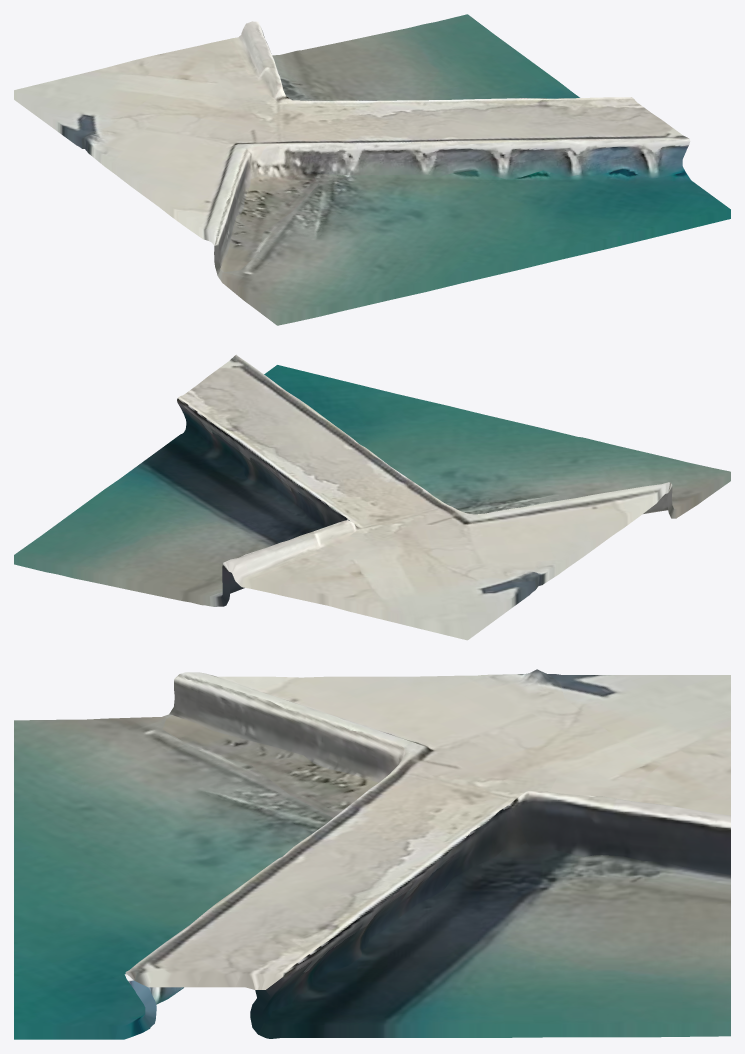
The model's file is z20-167566-405172-h0-yup-uvflip-v3-world.glb.
The picture shows the model from 3 angles, top to bottom: view 1: azimuth 30°, elevation 25°; view 2: azimuth 150°, elevation 25°; view 3: azimuth 270°, elevation 25°; orthographic projection. The views are drawn at different scales.
Size of the model in its own units: 30.16 by 3.64 by 30.32.
1 material, 1 textured.
